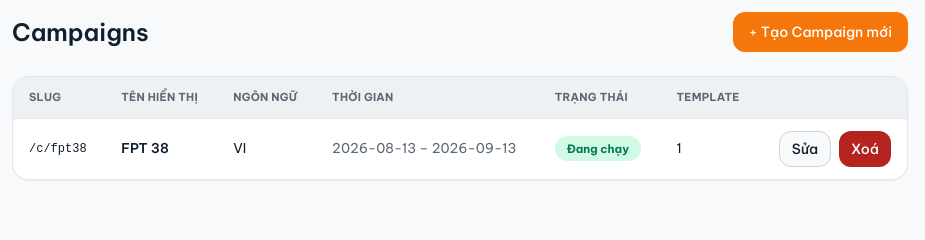
Test: AdminCampaignsPage status pill › shows an error and does not reload when the PATCH fails
Check: the text "FPT 38" is shown, box [105,118,217,178]
Click the button "Đang chạy" at (598,149), box [555,136,641,161]
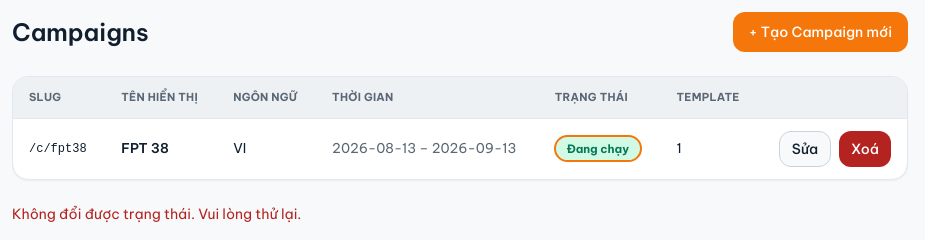
Check: the message "Không đổi được trạng thái. Vui lòng thử lại." is shown, box [12,204,301,222]
